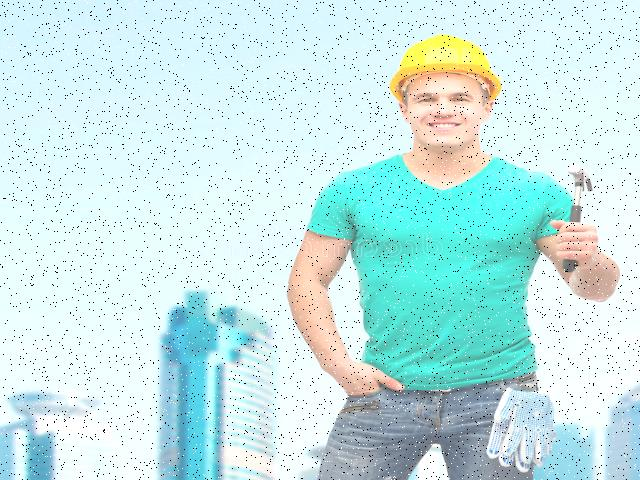Helmet: (387, 28, 508, 108)
